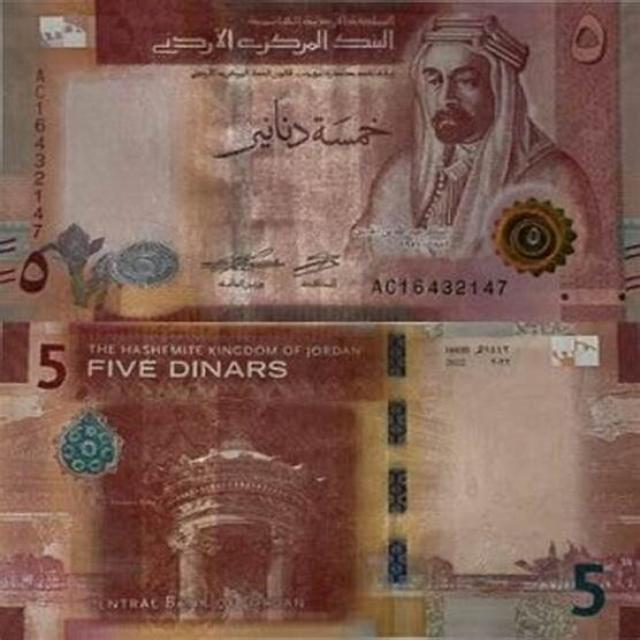5-dinar: (0, 317, 640, 640), (1, 0, 640, 320)
